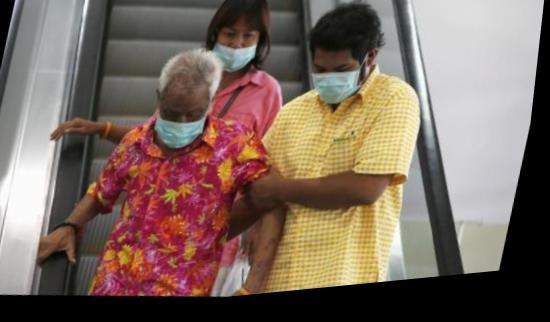OK: (307, 50, 375, 117), (157, 99, 214, 155)
WRONG: (215, 24, 265, 78)
